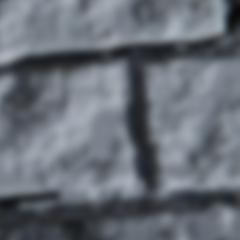brick: (0, 63, 133, 195), (0, 0, 222, 65), (141, 56, 239, 189), (0, 203, 239, 239), (233, 0, 239, 18)
crack: (0, 0, 237, 67), (0, 191, 57, 206)
